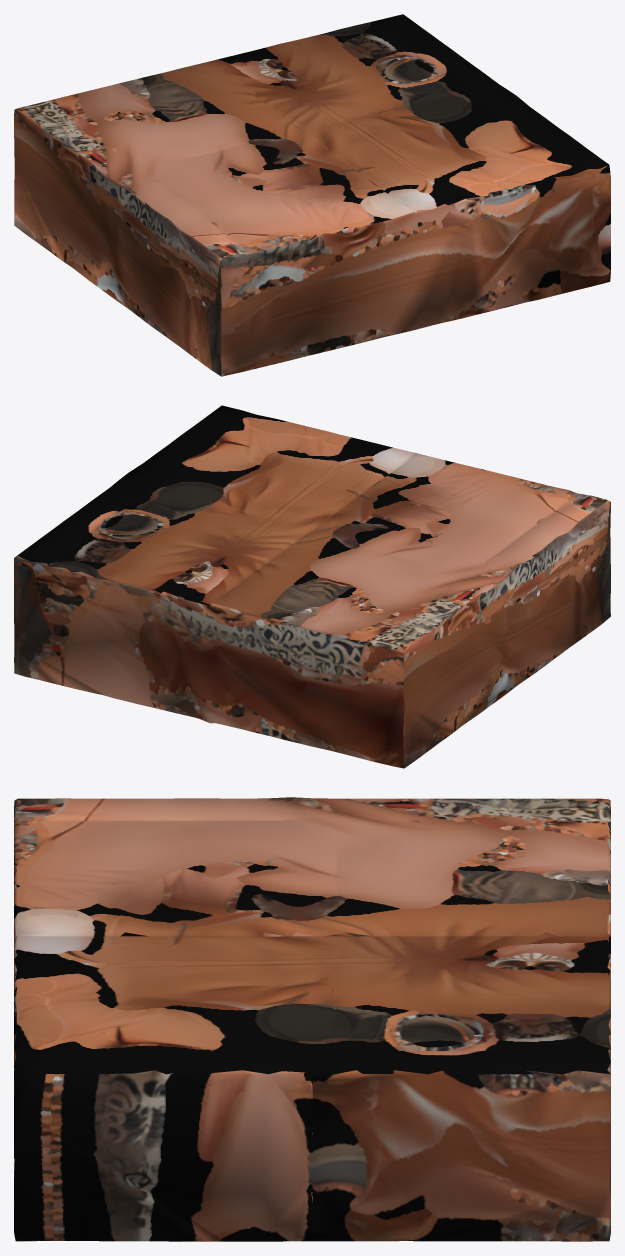
The model's file is OutdoorTileA.fbx.
3 views of the same model, one above another, from view 1: azimuth 30°, elevation 25°; view 2: azimuth 150°, elevation 25°; view 3: azimuth 270°, elevation 25° (orthographic). The views are drawn at different scales.
Visible parts, largest first — view 1: OutdoorTileA; view 2: OutdoorTileA; view 3: OutdoorTileA.
Part boxes in pixels (x1,y1,x2,y2): OutdoorTileA: (14, 14, 610, 376); OutdoorTileA: (14, 405, 610, 768); OutdoorTileA: (14, 797, 610, 1241).
Size of the model in its own units: 200 by 58.77 by 184.
